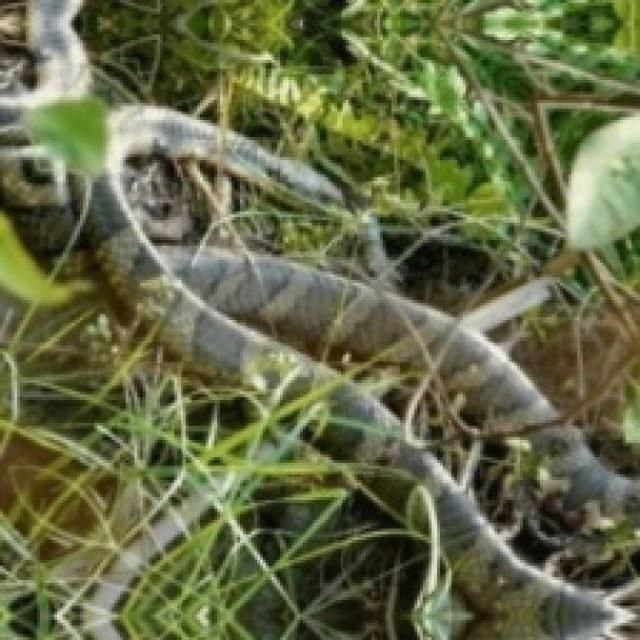king cobra: (0, 0, 637, 637), (77, 0, 637, 486), (0, 120, 437, 637), (266, 326, 637, 586)
